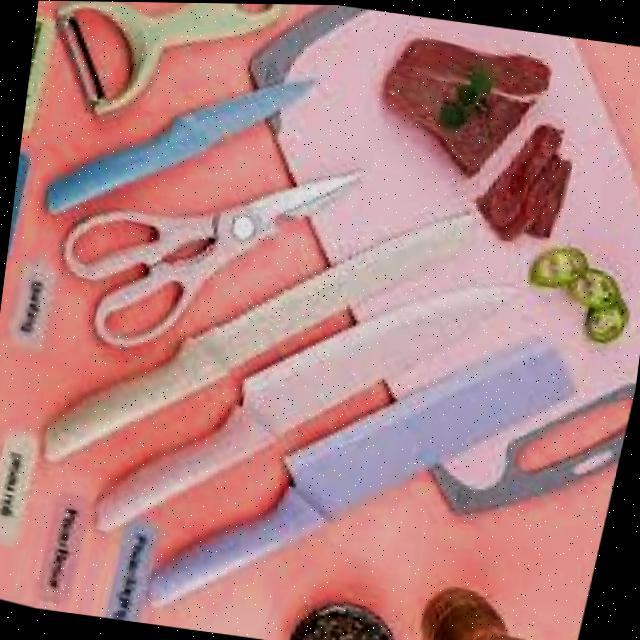knife: (34, 153, 477, 516), (138, 280, 579, 640), (87, 229, 526, 588), (36, 41, 320, 251)
